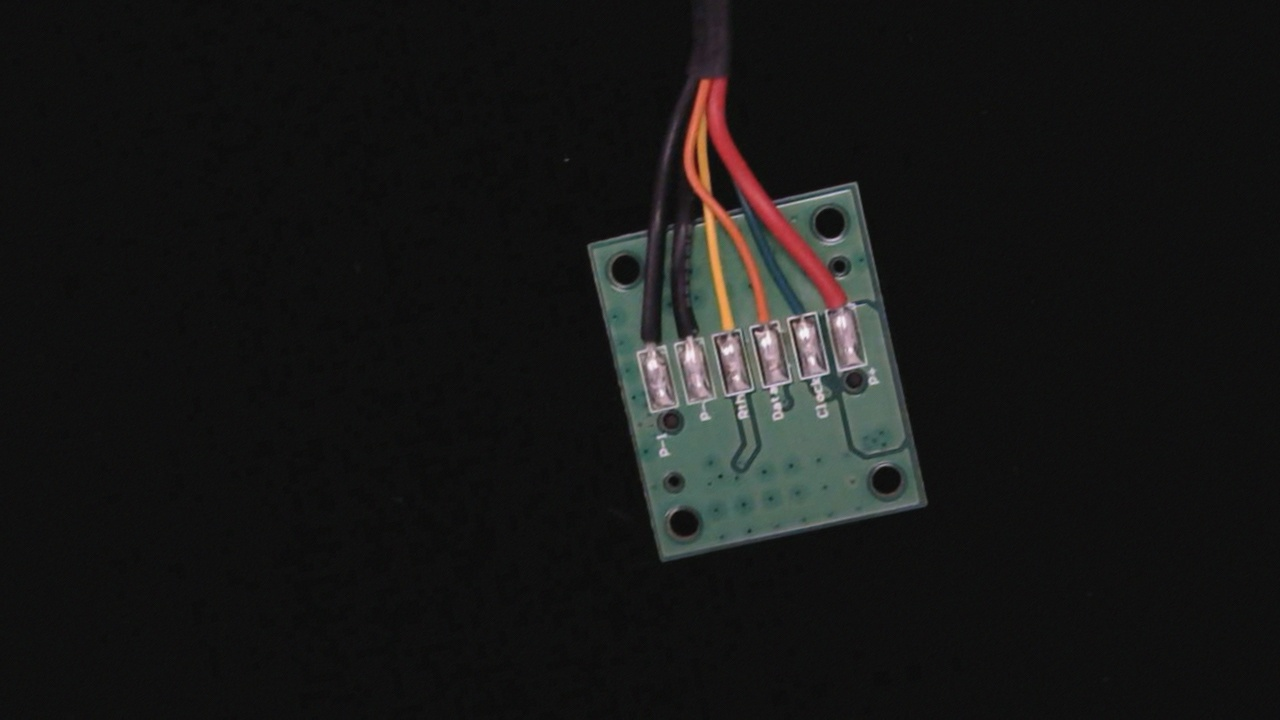Black: (659, 280, 707, 359)
Black1: (621, 300, 667, 372)
Green: (774, 266, 821, 338)
Orange: (736, 266, 782, 343)
Red: (811, 252, 857, 327)
Yellow: (696, 275, 744, 354)
